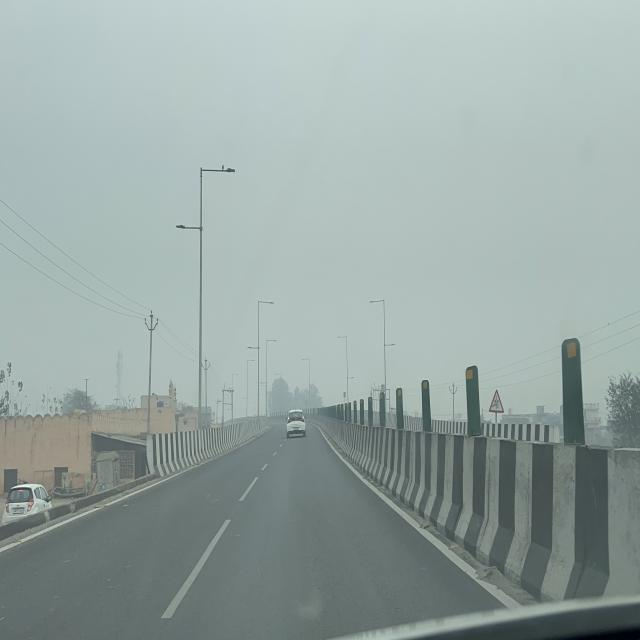WARNING: (489, 389, 504, 414)
